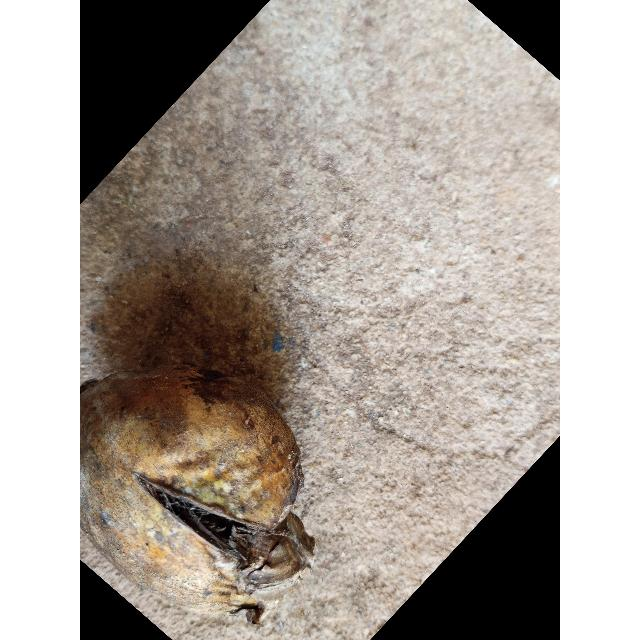damaged: (80, 365, 315, 624)
